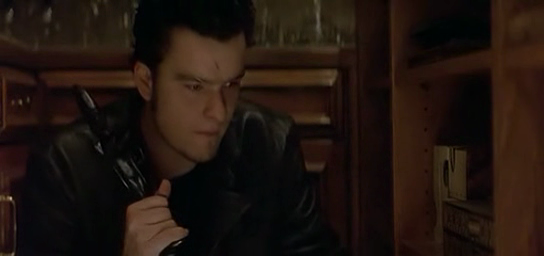face: (161, 46, 246, 160)
mcu: (1, 1, 544, 256)
person: (15, 1, 332, 256)
